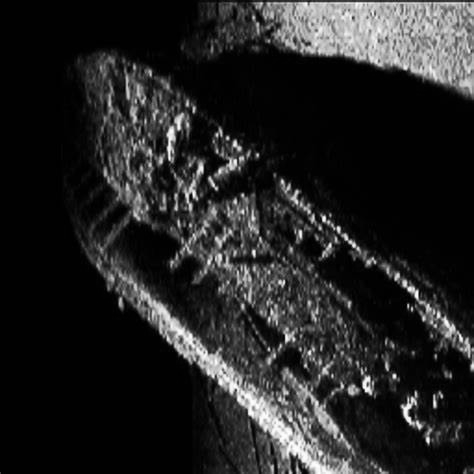ship: (74, 50, 470, 469)
